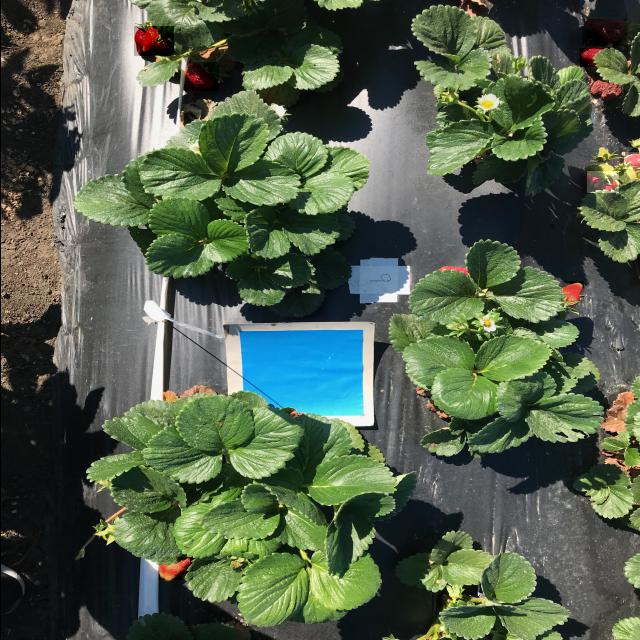Flower: (477, 94, 499, 110), (266, 103, 284, 120), (478, 317, 497, 332)
Red Strawberry: (580, 19, 626, 47), (132, 26, 173, 57), (180, 62, 218, 92), (156, 557, 192, 581), (585, 171, 618, 194), (578, 48, 610, 68), (559, 281, 583, 305), (622, 152, 639, 171), (439, 266, 470, 276)
